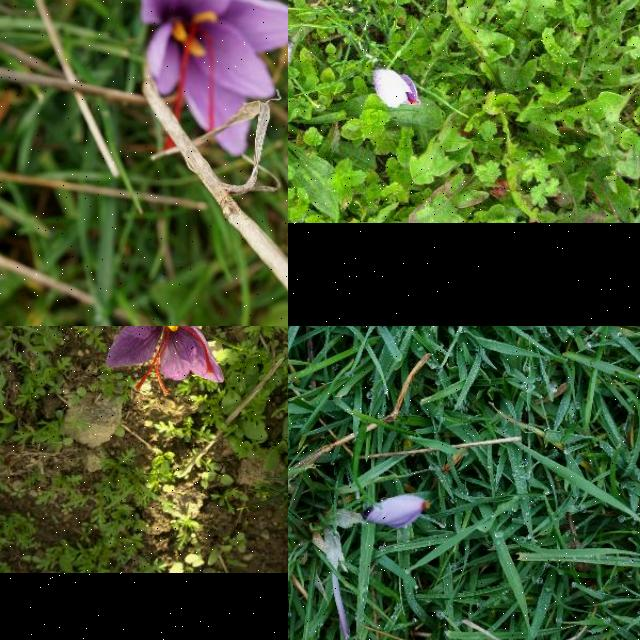flower: (143, 0, 288, 156), (104, 326, 225, 396), (368, 494, 432, 528), (374, 69, 422, 109)
